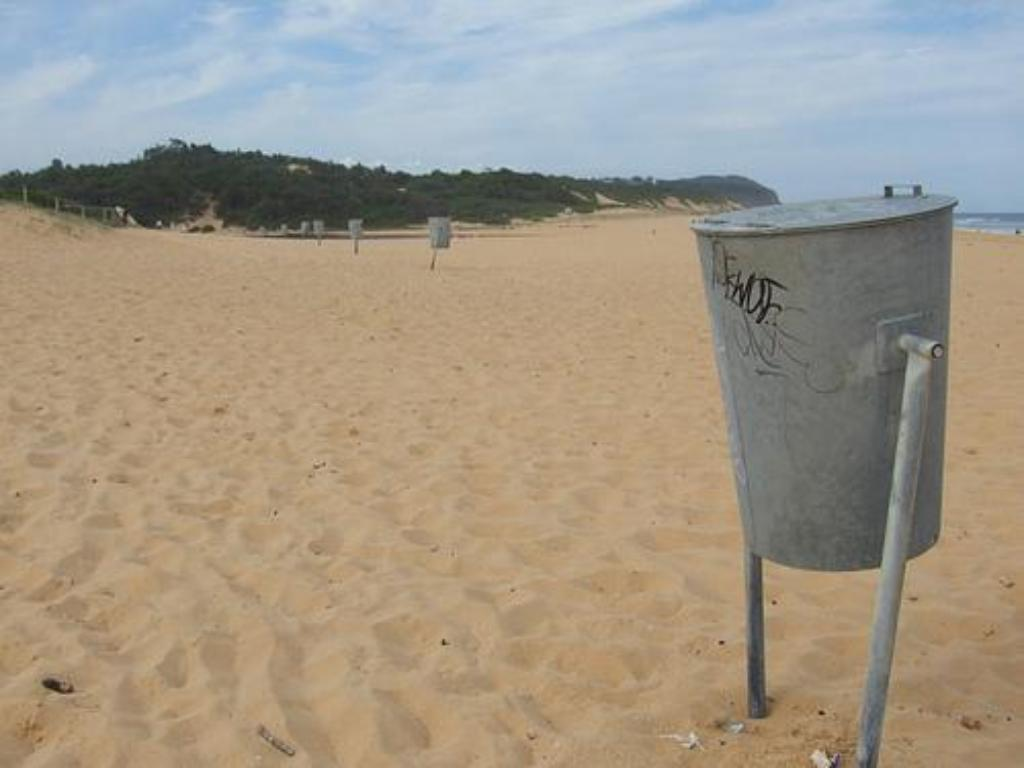dustbin: (679, 182, 970, 743), (416, 200, 463, 282)
